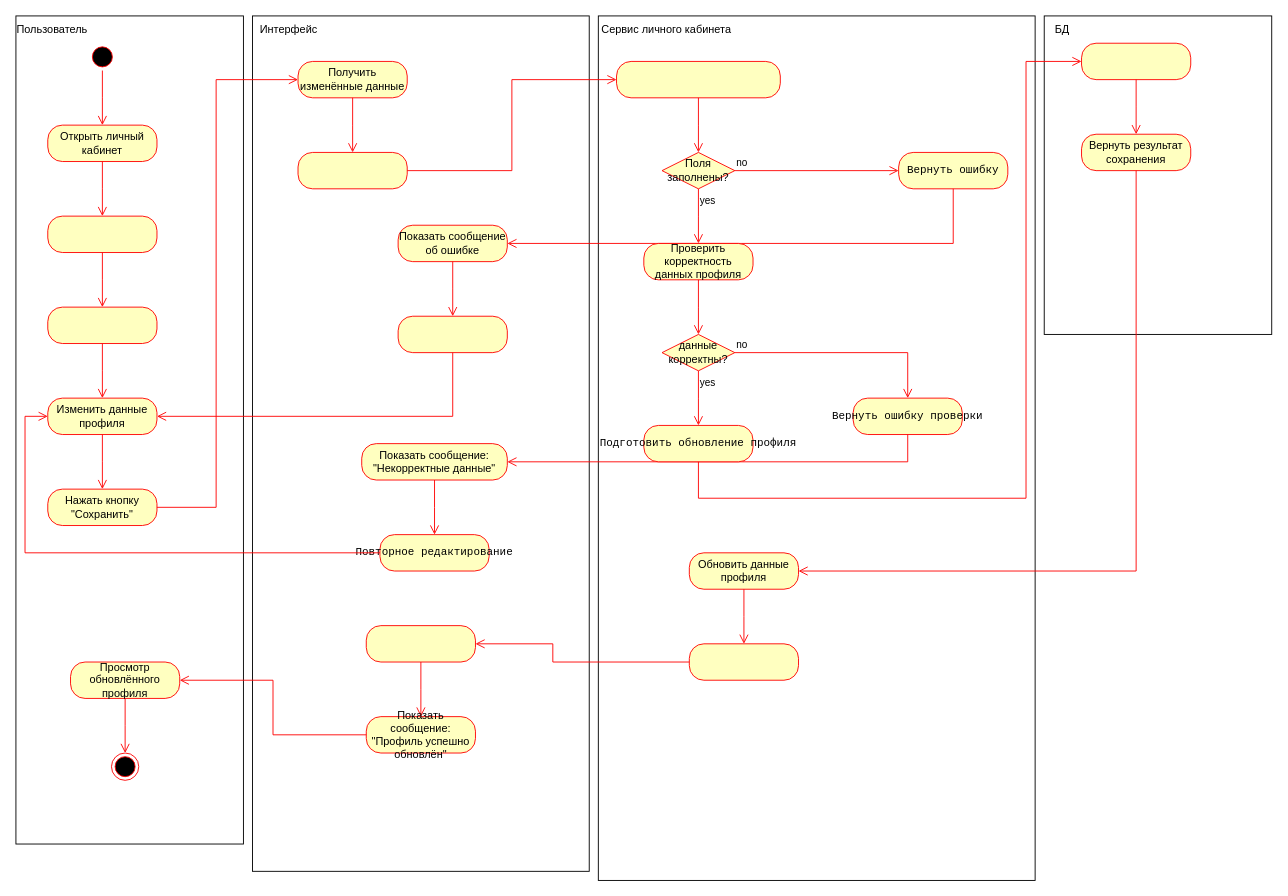
The diagram is 1288 pixels wide and 896 high, and some of its shapes have lost their labels. The shapes that lost their labels are listed below. From the top down, each one's centre as x and y in pixels, then its label:
(x=698, y=79): Проверить заполнение полей
(x=1136, y=61): Сохранить изменения профиля
(x=352, y=170): Передать данные в сервис личного кабинета
(x=102, y=234): Просмотреть данные профиля
(x=102, y=325): Нажать кнопку "Редактировать профиль"
(x=452, y=334): Повторное редактирование данных
(x=420, y=643): Обновить отображение профиля
(x=743, y=661): Вернуть успешный результат
